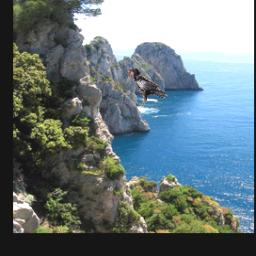Crow: (124, 67, 167, 108)
